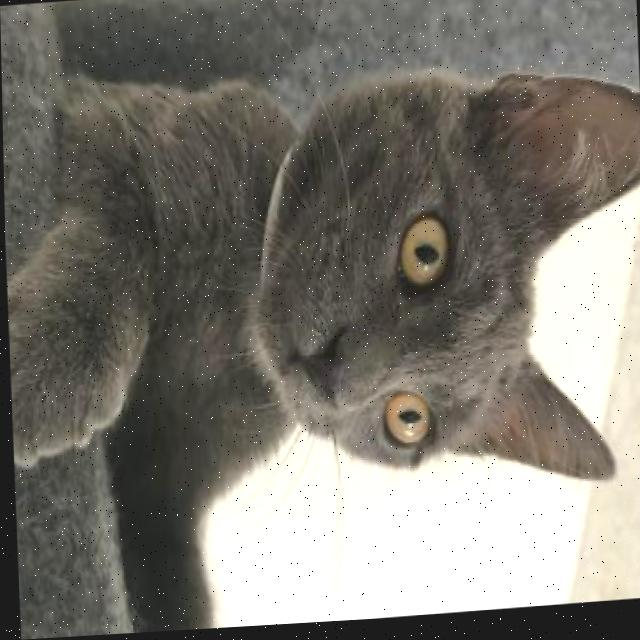Russian Blue: (1, 44, 640, 640)
